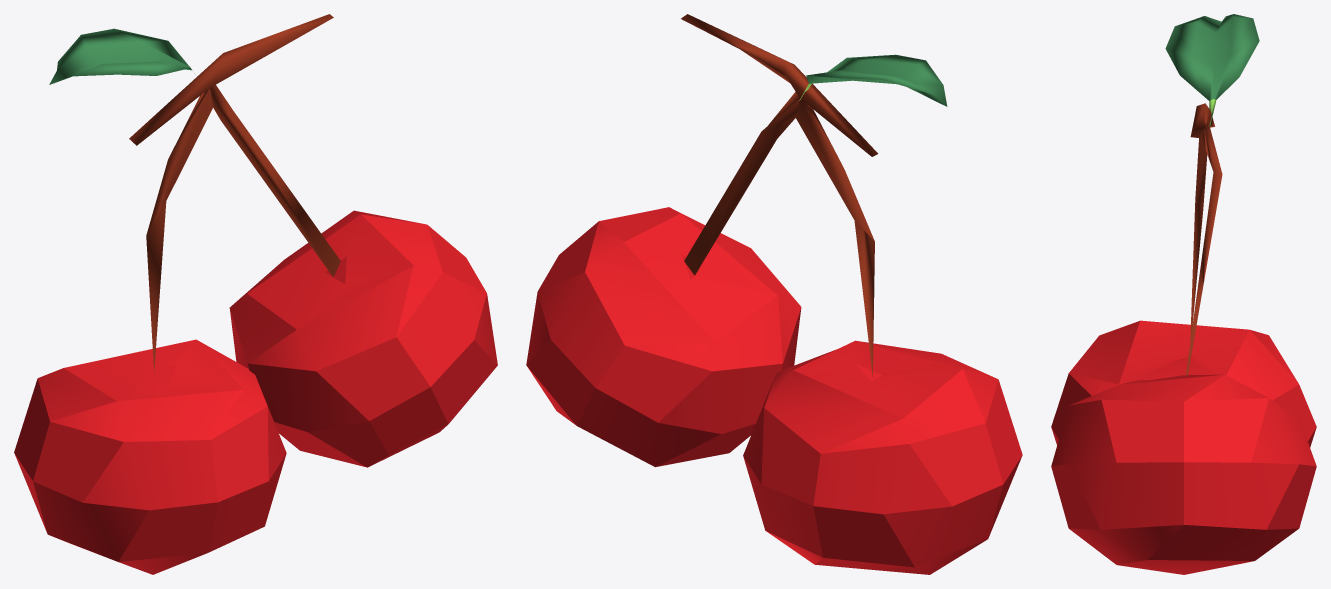
The model's file is cherry.glb.
3 views of the same model, side by side, from view 1: azimuth 30°, elevation 25°; view 2: azimuth 150°, elevation 25°; view 3: azimuth 270°, elevation 25° (orthographic). The views are drawn at different scales.
Visible parts, largest first — view 1: Cube.001; view 2: Cube.001; view 3: Cube.001.
Boxes of the visible parts, x1,y1,x2,y2 form: Cube.001: (14, 14, 497, 574); Cube.001: (526, 14, 1022, 574); Cube.001: (1051, 14, 1316, 574).
Size of the model in its own units: 0.7607 by 0.8133 by 0.4.
1 material, 1 textured.
